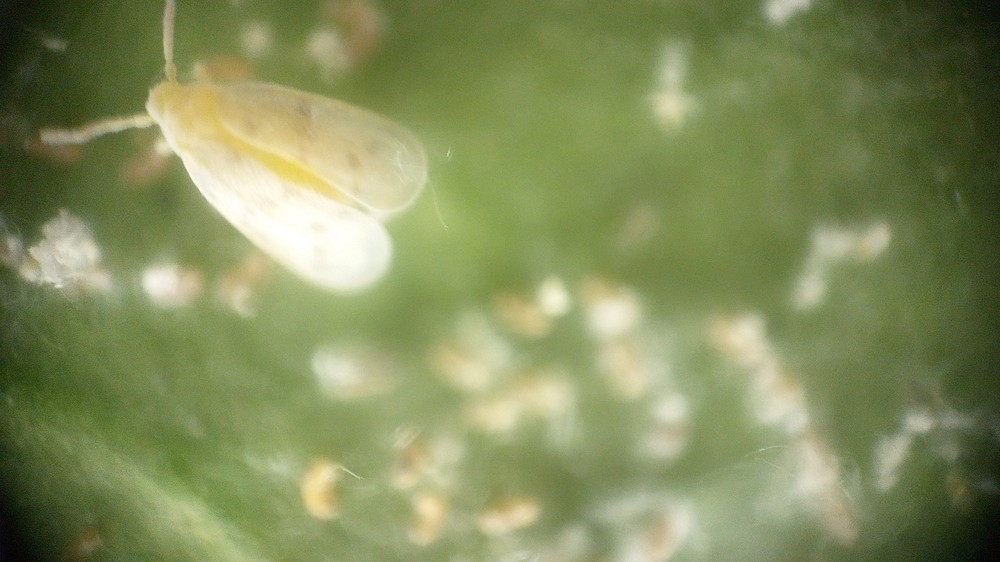Mosca Blanca: (30, 6, 460, 308)
